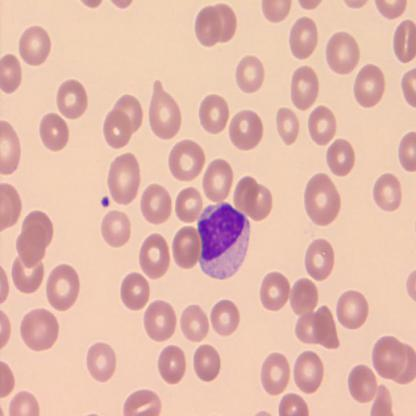Metamyelocyte: (194, 198, 254, 282)
